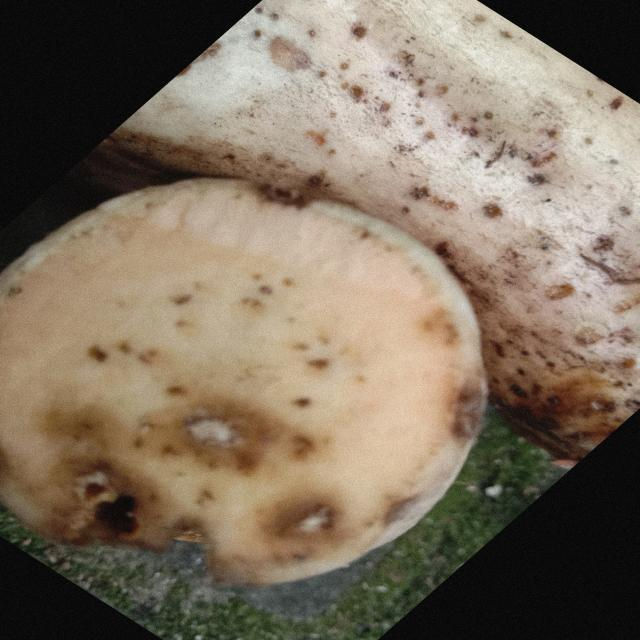Sick Sweet Potato_Tuber Rot: (2, 179, 487, 586)
